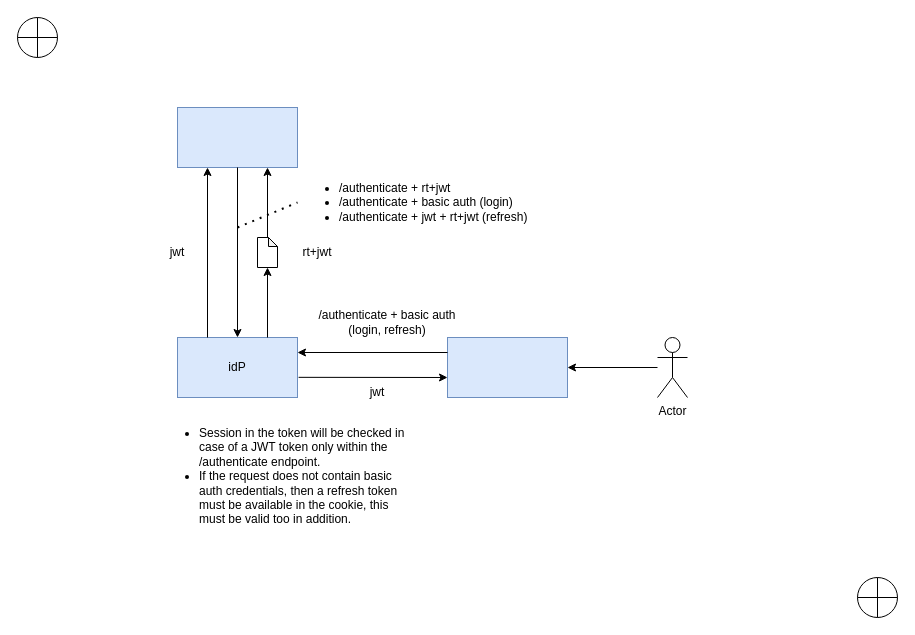
Some shapes in this 915 by 635 pixel diagram are drawn without their labels. The shapes that lost their labels are listed below. From the top down, each one's centre as x and y in pixels, then its label:
At [237,137]: "FE".
At [507,367]: "Resource Server".
